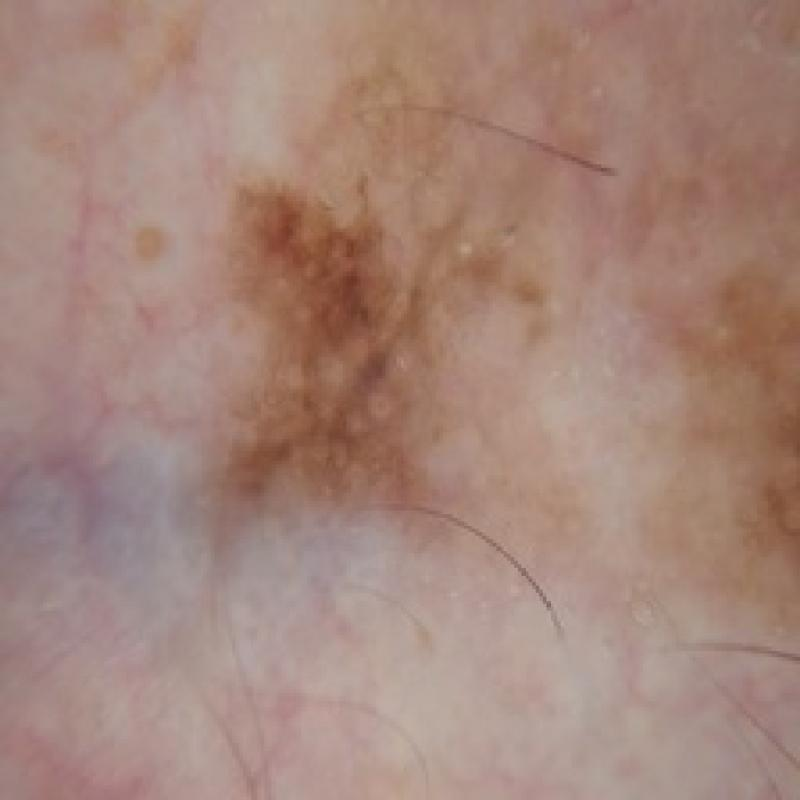malignant: (101, 101, 576, 609)
